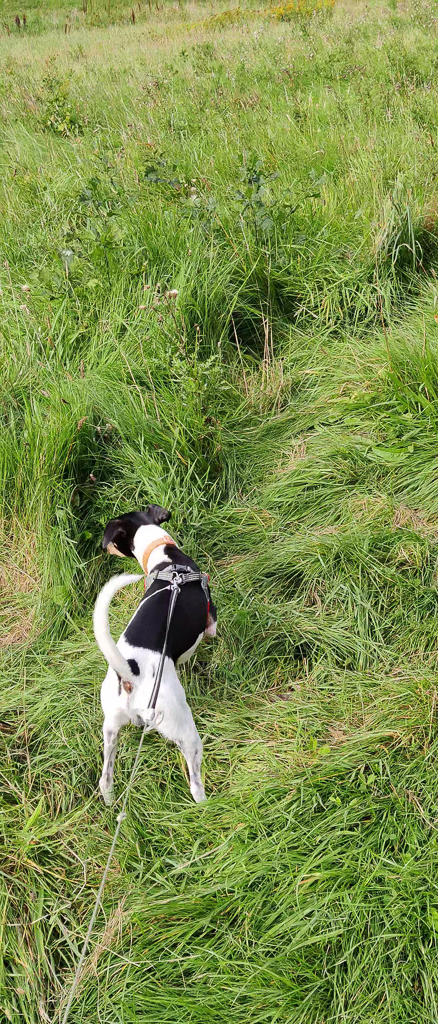Dog: (77, 493, 240, 831)
